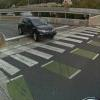Car: (13, 11, 68, 53)
